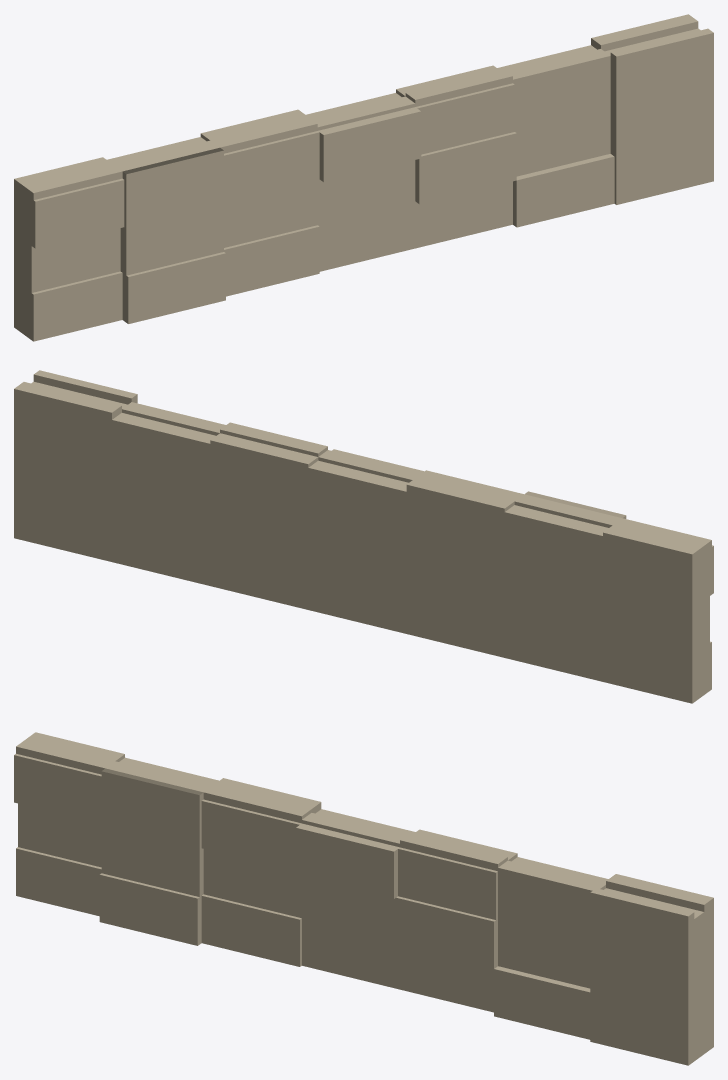
File: средняя стена.FBX
3 renders of one model, top to bottom at view 1: azimuth 30°, elevation 25°; view 2: azimuth 150°, elevation 25°; view 3: azimuth 330°, elevation 25°, orthographic.
Parts seen in each view (by area): view 1: Box056; view 2: Box056; view 3: Box056.
Part boxes in pixels (<box>): Box056: <box>14,14,713,341</box>; Box056: <box>14,370,713,703</box>; Box056: <box>14,732,713,1065</box>.
Size of the model in its own units: 200 by 42 by 13.
